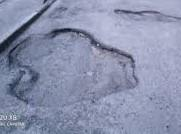pothole: (10, 26, 137, 108), (111, 7, 180, 25)
